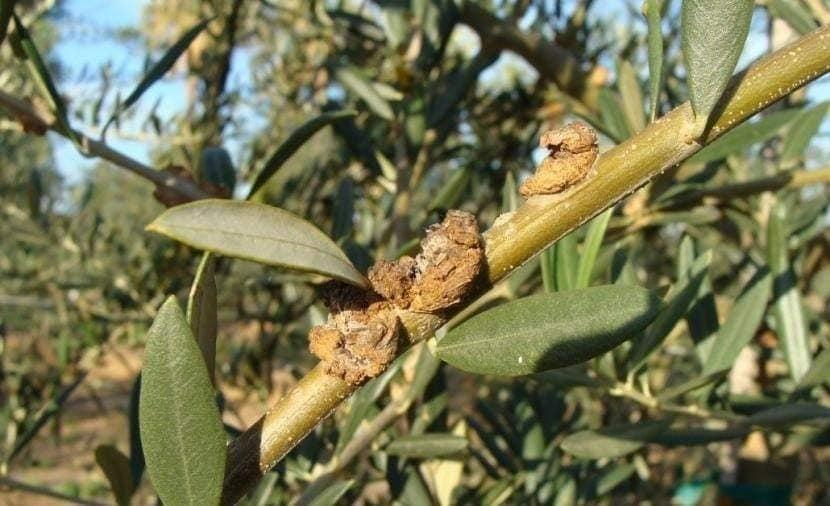Tuberculosis: (365, 205, 498, 312), (302, 305, 408, 379), (517, 118, 599, 202)
